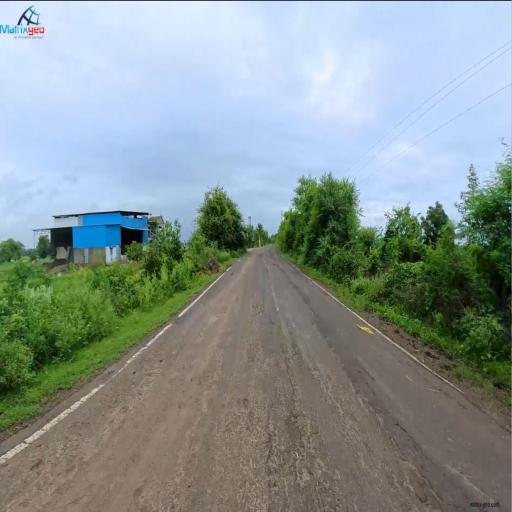ravelling: (211, 357, 364, 489)
